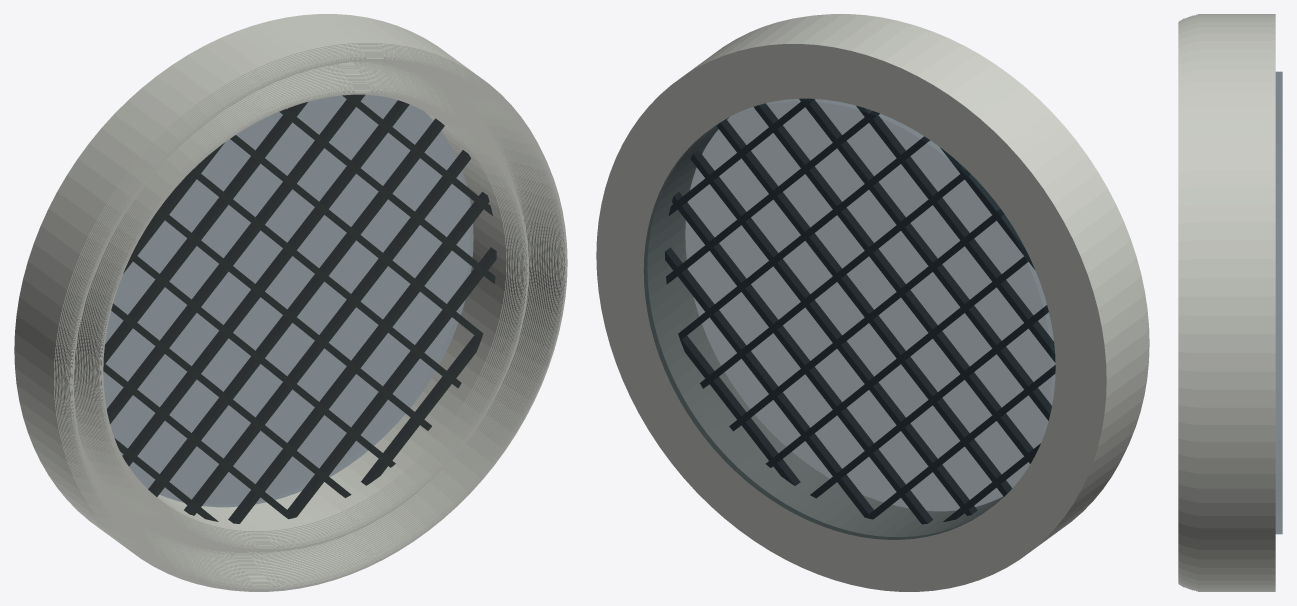
Rendered from barroco_circle_con_reja.glb.
3 renders of one model, left to right at view 1: azimuth 30°, elevation 25°; view 2: azimuth 150°, elevation 25°; view 3: azimuth 270°, elevation 25°, orthographic.
Parts seen in each view (by area): view 1: window_glass#0001, window_grille#0001, window_reveal#0001, window_profile#0096, window_profile#0001, window_profile#0084, window_profile#0080, window_profile#0081, window_profile#0093, window_profile#0082, window_profile#0095, window_profile#0094 (+71 smaller); view 2: window_glass#0001, window_reveal#0001, window_grille#0001, window_profile#0096, window_profile#0001, window_profile#0095, window_profile#0093, window_profile#0094; view 3: window_profile#0096, window_reveal#0001, window_glass#0001, window_profile#0094, window_profile#0093, window_profile#0092, window_profile#0089, window_profile#0095, window_profile#0090, window_profile#0091, window_profile#0088, window_profile#0085 (+5 smaller).
Part boxes in pixels (<box>): window_glass#0001: <box>103,95,473,507</box>; window_grille#0001: <box>103,94,496,523</box>; window_reveal#0001: <box>14,14,490,532</box>; window_profile#0096: <box>29,24,529,583</box>; window_profile#0001: <box>128,102,506,531</box>; window_profile#0084: <box>69,56,567,591</box>; window_profile#0080: <box>72,59,565,589</box>; window_profile#0081: <box>72,58,566,589</box>; window_profile#0093: <box>57,46,536,588</box>; window_profile#0082: <box>71,58,566,590</box>; window_profile#0095: <box>54,43,529,584</box>; window_profile#0094: <box>56,45,530,584</box>; window_glass#0001: <box>643,98,1055,539</box>; window_reveal#0001: <box>596,31,1123,591</box>; window_grille#0001: <box>665,99,1055,523</box>; window_profile#0096: <box>700,15,1146,537</box>; window_profile#0001: <box>662,117,1003,524</box>; window_profile#0095: <box>812,14,1146,447</box>; window_profile#0093: <box>813,14,1147,435</box>; window_profile#0094: <box>811,14,1147,444</box>; window_profile#0096: <box>1198,14,1246,591</box>; window_reveal#0001: <box>1242,14,1275,591</box>; window_glass#0001: <box>1275,71,1282,534</box>; window_profile#0094: <box>1193,15,1195,590</box>; window_profile#0093: <box>1191,15,1193,590</box>; window_profile#0092: <box>1189,16,1191,589</box>; window_profile#0089: <box>1184,18,1186,587</box>; window_profile#0095: <box>1196,14,1197,591</box>; window_profile#0090: <box>1186,17,1187,588</box>; window_profile#0091: <box>1188,17,1189,588</box>; window_profile#0088: <box>1183,18,1184,587</box>; window_profile#0085: <box>1179,20,1180,585</box>.
Bounding box in the file's own units: 1.6 × 1.6 × 0.2896.
